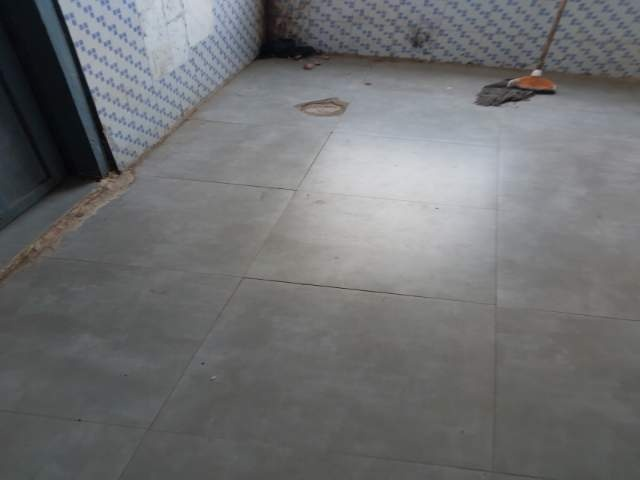pothole: (144, 294, 432, 480)
